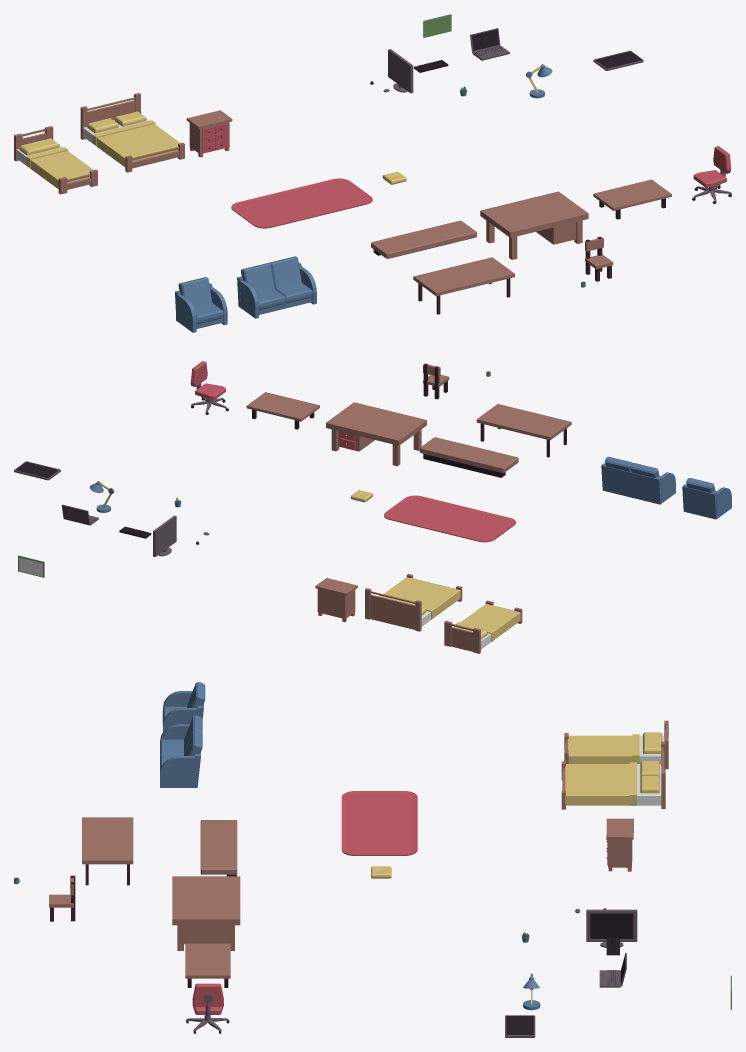
The model's file is furnituresblend.fbx.
3 views of the same model, one above another, from view 1: azimuth 30°, elevation 25°; view 2: azimuth 150°, elevation 25°; view 3: azimuth 270°, elevation 25° (orthographic). The views are drawn at different scales.
Parts seen in each view (by area): view 1: BigBed, Table, Mat, BigSofa, SmallBed, Table.001, SmallSofa, Shelf, BedsiteTab;e, LivingRoomTable, ComputerChair, Laptop (+4 smaller); view 2: Table, Mat, BigBed, BigSofa, SmallBed, Shelf, Table.001, SmallSofa, BedsiteTab;e, LivingRoomTable, ComputerChair, Monitor (+2 smaller); view 3: Mat, BigBed, Table, SmallBed, BigSofa, Table.001, Shelf, LivingRoomTable, Monitor, SmallSofa, BedsiteTab;e, ComputerChair (+2 smaller).
Part boxes in pixels (box(x1,y1,x2,y2)): BigBed: box(80, 93, 184, 172); Table: box(480, 191, 588, 259); Mat: box(231, 178, 372, 228); BigSofa: box(237, 256, 316, 318); SmallBed: box(14, 126, 97, 194); Table.001: box(413, 257, 514, 314); SmallSofa: box(175, 277, 227, 332); Shelf: box(371, 220, 476, 258); BedsiteTab;e: box(186, 110, 232, 157); LivingRoomTable: box(593, 179, 671, 219); ComputerChair: box(692, 146, 731, 203); Laptop: box(470, 28, 509, 60); Table: box(326, 402, 426, 466); Mat: box(384, 495, 515, 542); BigBed: box(365, 574, 462, 631); BigSofa: box(601, 456, 675, 504); SmallBed: box(444, 600, 522, 653); Shelf: box(419, 437, 518, 477); Table.001: box(476, 404, 571, 457); SmallSofa: box(682, 478, 731, 519); BedsiteTab;e: box(315, 578, 357, 621); LivingRoomTable: box(246, 392, 319, 429); ComputerChair: box(190, 361, 228, 414); Monitor: box(153, 515, 176, 556); Mat: box(341, 791, 417, 855); BigBed: box(561, 741, 665, 809); Table: box(172, 876, 240, 950); SmallBed: box(564, 720, 668, 769); BigSofa: box(160, 715, 202, 787); Table.001: box(82, 817, 133, 885); Shelf: box(200, 820, 237, 876); LivingRoomTable: box(185, 943, 230, 987); Monitor: box(586, 909, 637, 947); SmallSofa: box(162, 682, 205, 731); BedsiteTab;e: box(606, 818, 633, 871); ComputerChair: box(186, 983, 229, 1033).
Size of the model in its own units: 4618 by 412 by 4227.
